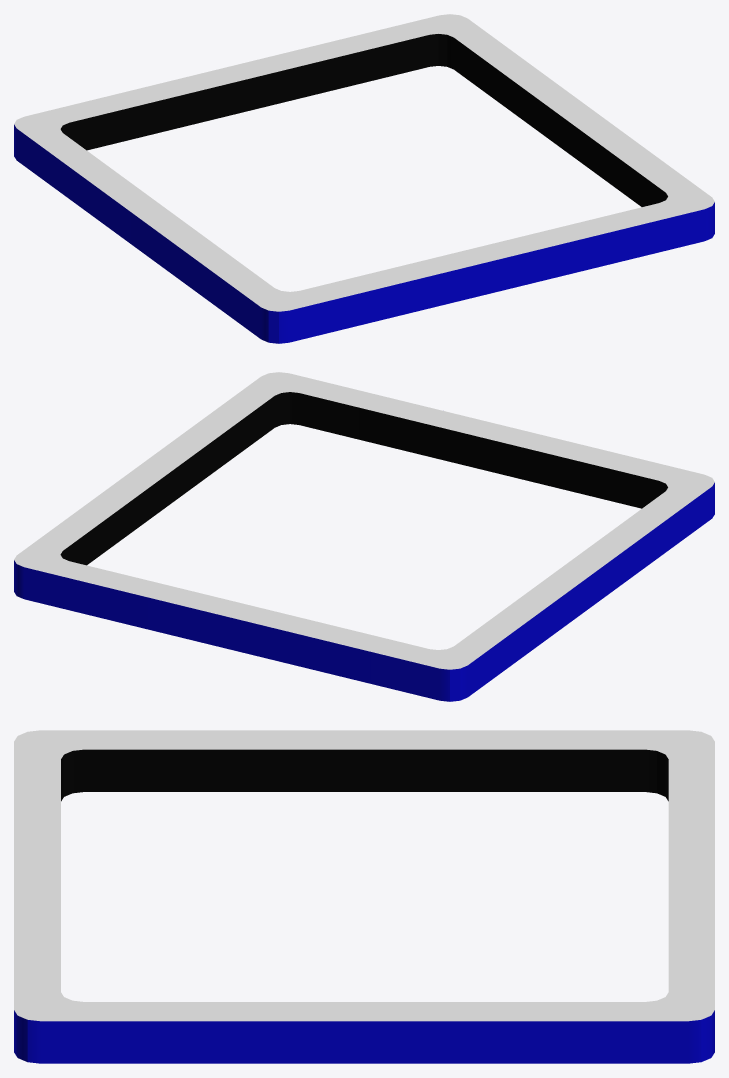
File: platform_test.fbx
3 views of the same model, one above another, from view 1: azimuth 30°, elevation 25°; view 2: azimuth 150°, elevation 25°; view 3: azimuth 270°, elevation 25° (orthographic). The views are drawn at different scales.
Parts seen in each view (by area): view 1: platform; view 2: platform; view 3: platform.
Boxes of the visible parts, box(x1,y1,x2,y2) form: platform: box(14, 14, 714, 343); platform: box(14, 372, 714, 701); platform: box(14, 730, 714, 1063).
Bounding box in the file's own units: 10.89 × 0.7398 × 11.08.
